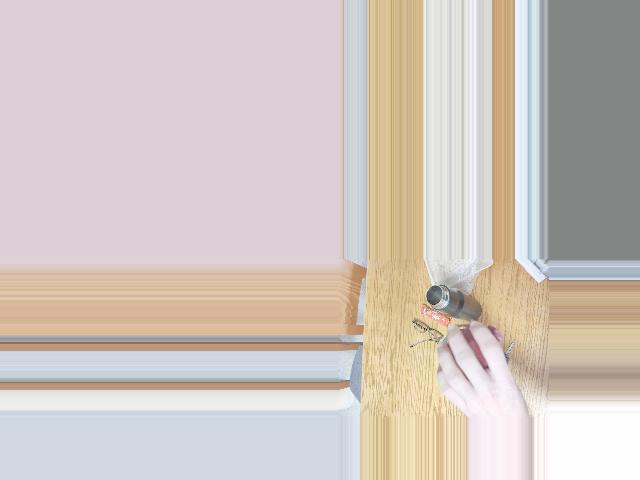onion: (439, 334, 503, 380)
